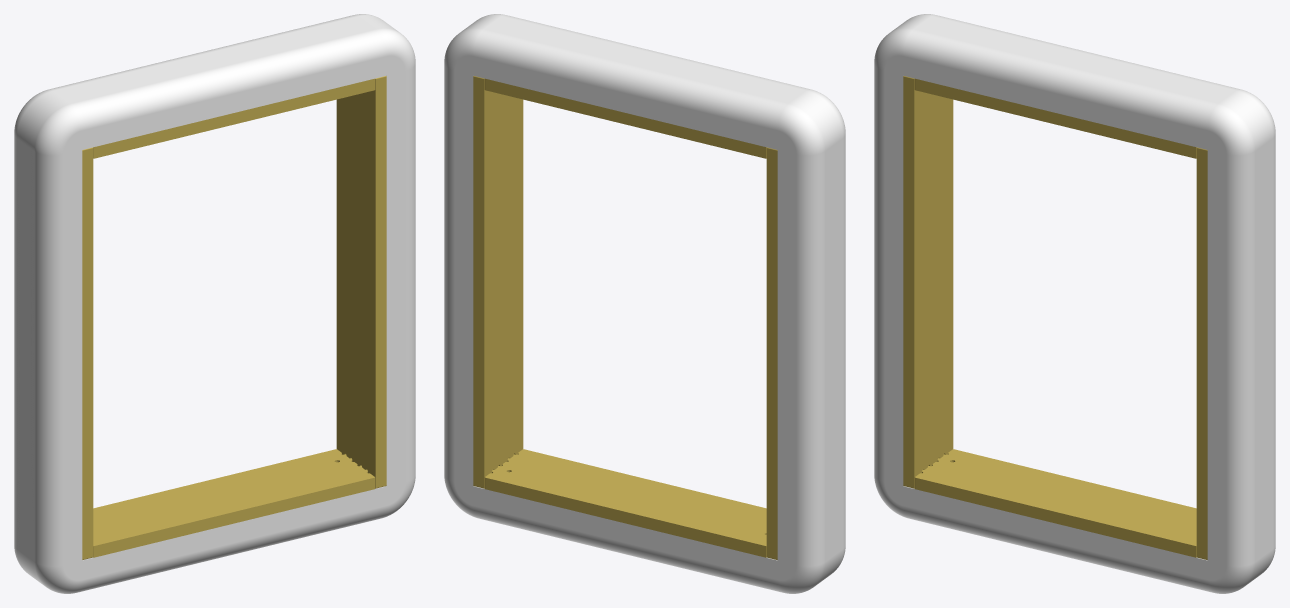
Rendered from Spartans-Bumpers.gltf.
3 renders of one model, left to right at view 1: azimuth 30°, elevation 25°; view 2: azimuth 150°, elevation 25°; view 3: azimuth 330°, elevation 25°, orthographic.
Visible parts, largest first — view 1: Placebo Bumepers, 971-19-P-0112_Bumper Long Wood Panel (×2), 971-19-P-0113_Bumper Short Wood Panel (×2); view 2: Placebo Bumepers, 971-19-P-0112_Bumper Long Wood Panel (×2), 971-19-P-0113_Bumper Short Wood Panel (×2); view 3: Placebo Bumepers, 971-19-P-0112_Bumper Long Wood Panel (×2), 971-19-P-0113_Bumper Short Wood Panel (×2).
Part boxes in pixels (x1=…): Placebo Bumepers: x1=14, y1=14, x2=415, y2=593; 971-19-P-0112_Bumper Long Wood Panel (×2): x1=82, y1=76, x2=386, y2=559; 971-19-P-0113_Bumper Short Wood Panel (×2): x1=93, y1=78, x2=375, y2=557; Placebo Bumepers: x1=444, y1=14, x2=845, y2=593; 971-19-P-0112_Bumper Long Wood Panel (×2): x1=473, y1=76, x2=777, y2=559; 971-19-P-0113_Bumper Short Wood Panel (×2): x1=484, y1=78, x2=766, y2=557; Placebo Bumepers: x1=874, y1=14, x2=1275, y2=593; 971-19-P-0112_Bumper Long Wood Panel (×2): x1=903, y1=76, x2=1207, y2=559; 971-19-P-0113_Bumper Short Wood Panel (×2): x1=914, y1=78, x2=1196, y2=557.
Bounding box in the file's own units: 0.6501 × 0.801 × 0.1156.
